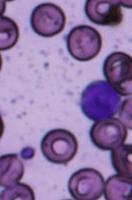L: (78, 78, 122, 122)
